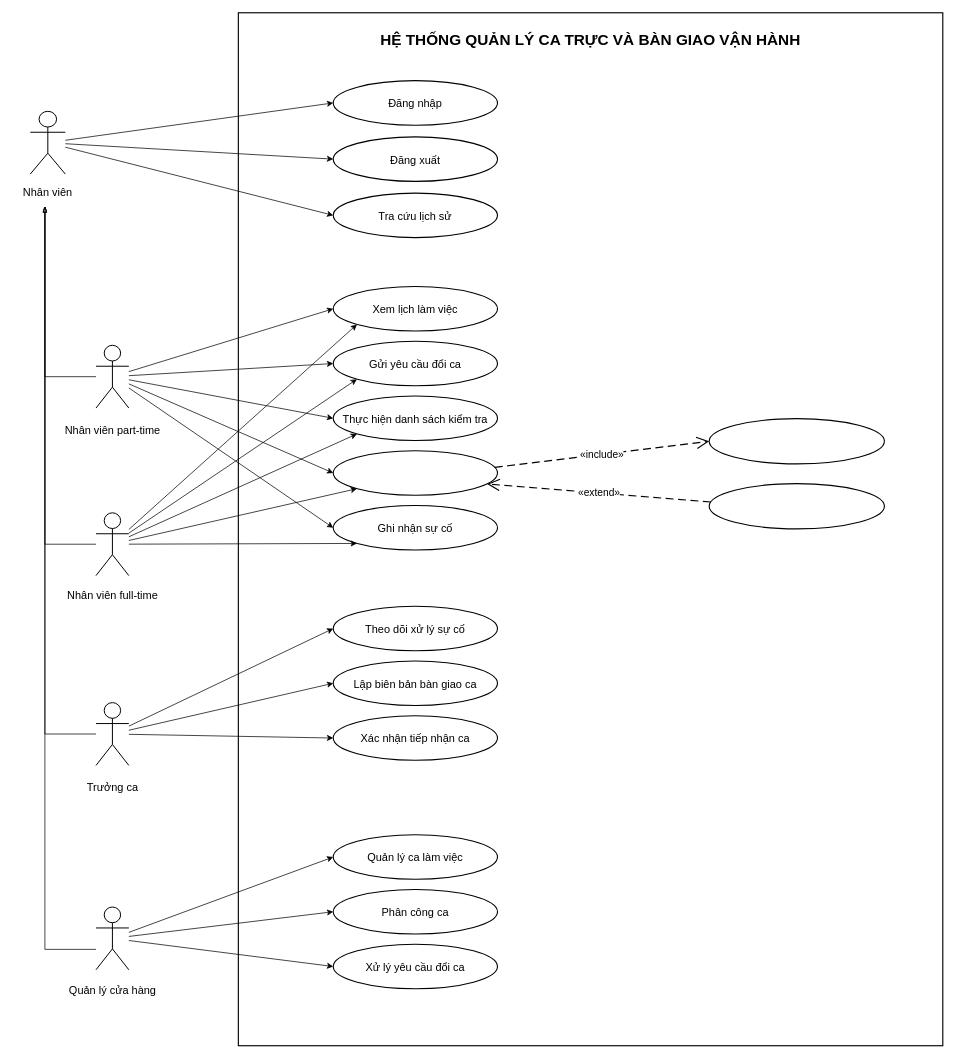
Image size: 956x1059. Some labels were removed from this diagram. Here are the shapes that lost their labels. From the top down, the centre of each, then its label:
point (796, 441): Đối chiếu kết quả kiểm tra
point (415, 473): Tiếp nhận bàn giao theo vị trí
point (796, 506): Ghi nhận thiếu sót bàn giao
